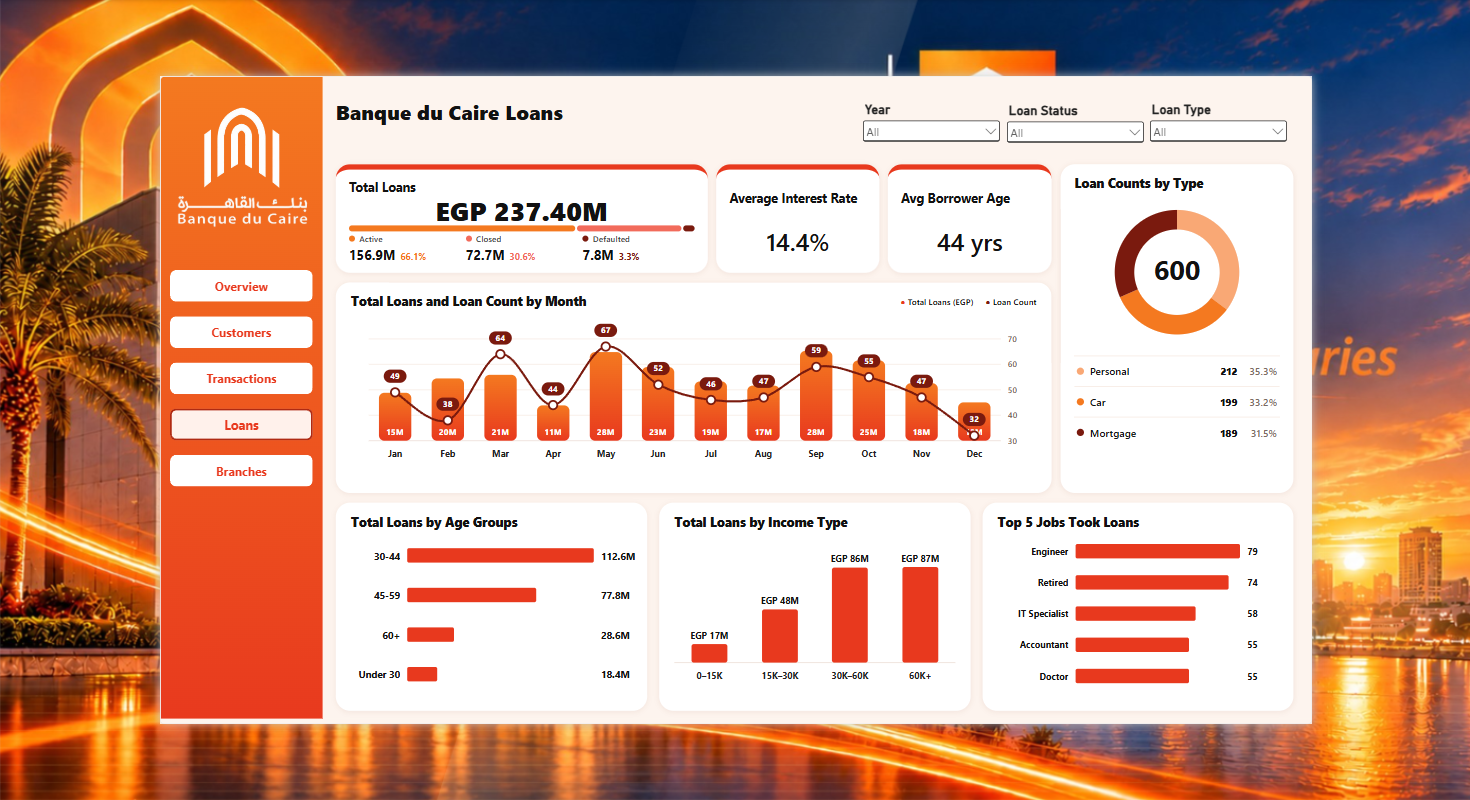

This screenshot's page, from the dashboard's own definition file:
{"tool":"powerbi","page":{"name":"Loans","canvas":[1920,1080],"ordinal":4},"visuals":[{"type":"htmlContent443BE3AD55E043BF878BED274D3A6855","fields":{"content":["Html.HTML Banque Loans 2"]},"box":[0,0,1920,1080],"z":0},{"type":"image","box":[38.4,0,195,240.5],"z":1000},{"type":"image","box":[0,162.5,255,131.2],"z":2000},{"type":"slicer","fields":{"Values":["Date Dim.Year"]},"box":[1167.2,42.6,238.3,76.7],"z":3000},{"type":"slicer","fields":{"Values":["Loans Fact.Loan_Status"]},"box":[1406.6,44.3,238.3,76.7],"z":4000},{"type":"slicer","fields":{"Values":["Loans Fact.Loan_Type"]},"box":[1644.3,42.6,238.3,76.7],"z":5000},{"type":"pageNavigator","box":[16.7,323.3,238.9,361.1],"z":6000}]}

Visuals, with their boxes on the page's 1920x1080 design canvas (x1, y1, x2, y2). These are canvas units, not pixel positions in the 1470x800 screenshot, which may show the page scaled, cropped or inside an application window:
htmlContent443BE3AD55E043BF878BED274D3A6855 - Html.HTML Banque Loans 2: [0, 0, 1920, 1080]
image: [38, 0, 233, 240]
image: [0, 162, 255, 294]
slicer - Date Dim.Year: [1167, 43, 1406, 119]
slicer - Loans Fact.Loan_Status: [1407, 44, 1645, 121]
slicer - Loans Fact.Loan_Type: [1644, 43, 1883, 119]
pageNavigator: [17, 323, 256, 684]
